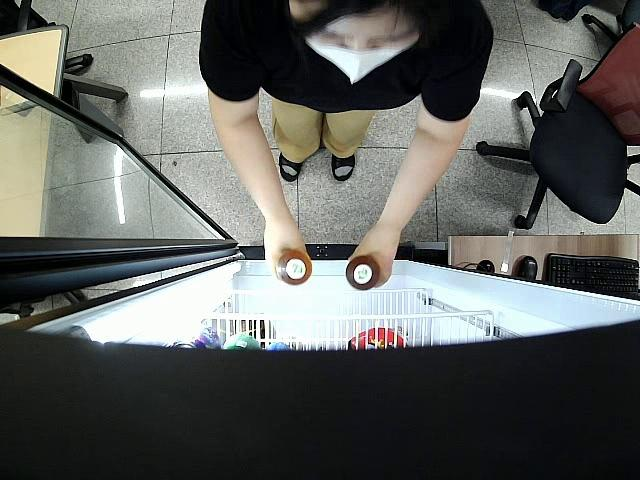00_hand: (347, 226, 397, 286), (263, 220, 310, 283)
19_17cha: (271, 249, 313, 286), (346, 256, 381, 296)
